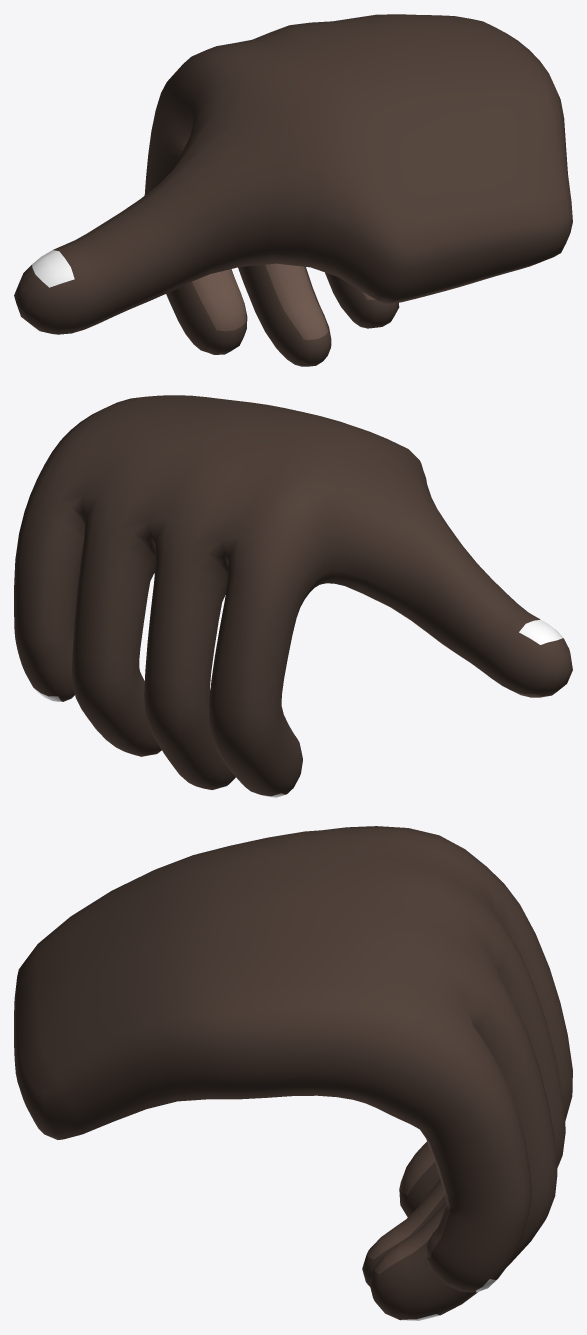
Rendered from lowPolyCurlHand.glb.
3 views of the same model, one above another, from view 1: azimuth 30°, elevation 25°; view 2: azimuth 150°, elevation 25°; view 3: azimuth 270°, elevation 25° (orthographic). The views are drawn at different scales.
Visible parts, largest first — view 1: Cube; view 2: Cube; view 3: Cube.
Part boxes in pixels (x1,y1,x2,y2): Cube: (14,14,572,366); Cube: (14,395,572,797); Cube: (14,826,572,1320).
Bounding box in the file's own units: 0.1543 × 0.098 × 0.115.
Materials: 3 (1 with a texture image).
